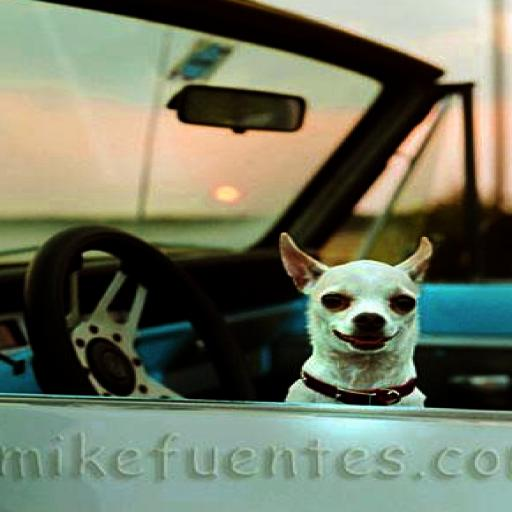dog_face: (280, 232, 458, 351)
